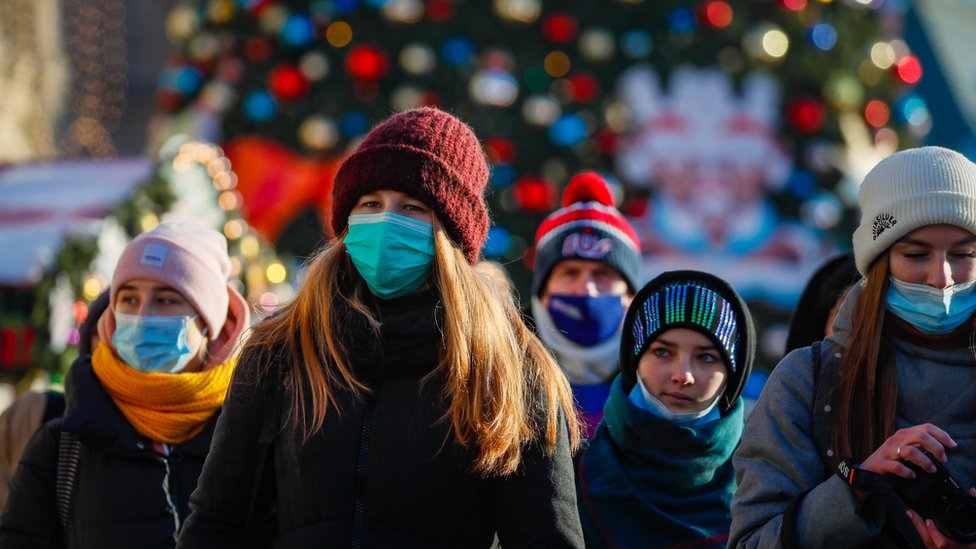with_incorrect_mask: (644, 340, 719, 425), (896, 237, 975, 313)
with_mask: (354, 192, 430, 272), (118, 289, 192, 362), (551, 262, 624, 334)
